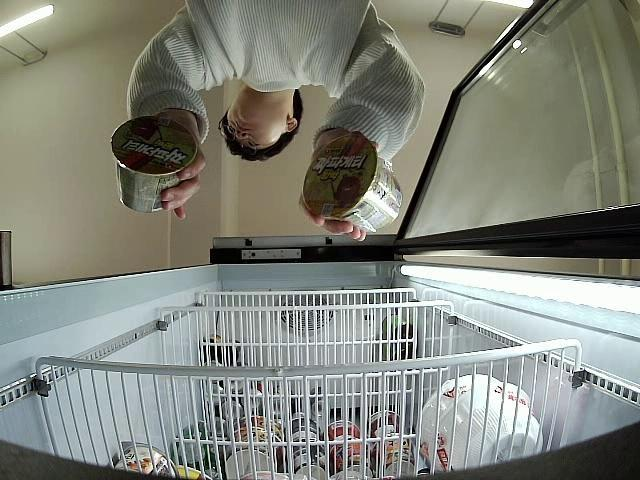04_chapagetti_S: (304, 130, 408, 231), (112, 114, 196, 213)
